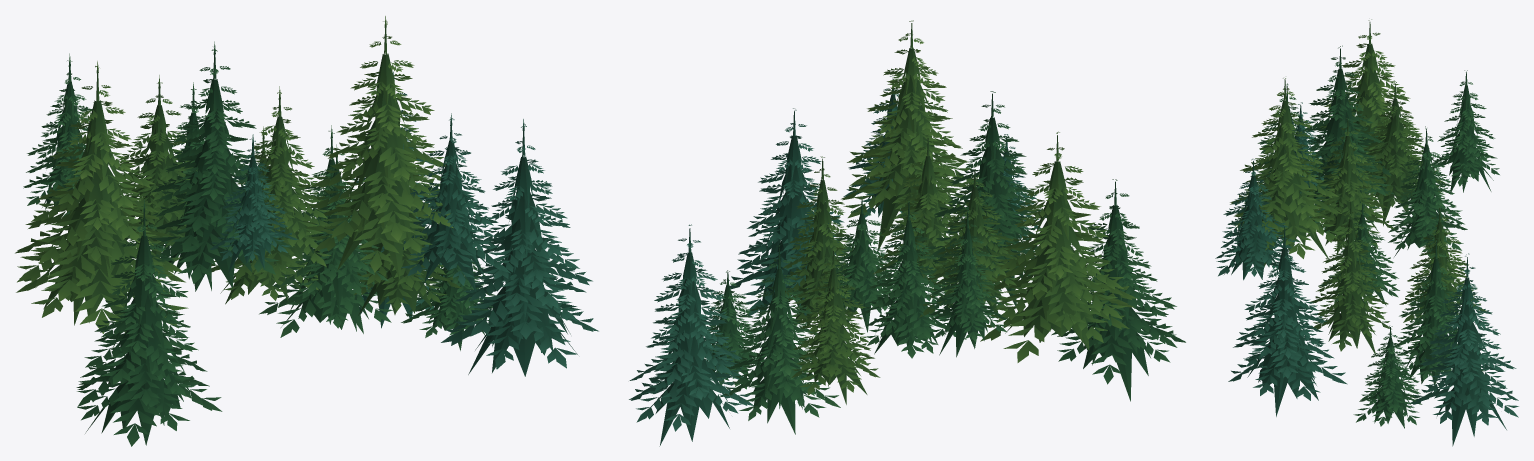
The picture shows the model from 3 angles, left to right: view 1: azimuth 30°, elevation 25°; view 2: azimuth 150°, elevation 25°; view 3: azimuth 270°, elevation 25°; orthographic projection. The views are drawn at different scales.
Parts seen in each view (by area): view 1: pn_21; view 2: pn_21; view 3: pn_21.
Part boxes in pixels (left/top/right/bottom): pn_21: left=15, top=16, right=598, bottom=446; pn_21: left=629, top=20, right=1185, bottom=446; pn_21: left=1215, top=19, right=1518, bottom=446.
Size of the model in its own units: 35.15 by 28.22 by 24.96.
Materials: 1 (1 with a texture image).
